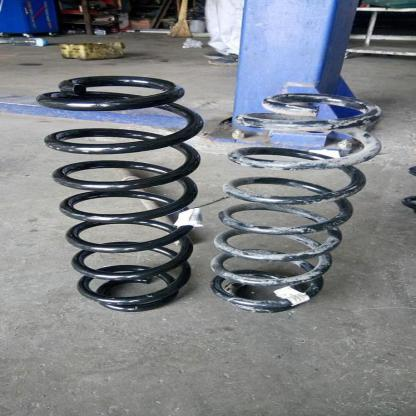FOD: (35, 74, 206, 315), (208, 90, 387, 317)
